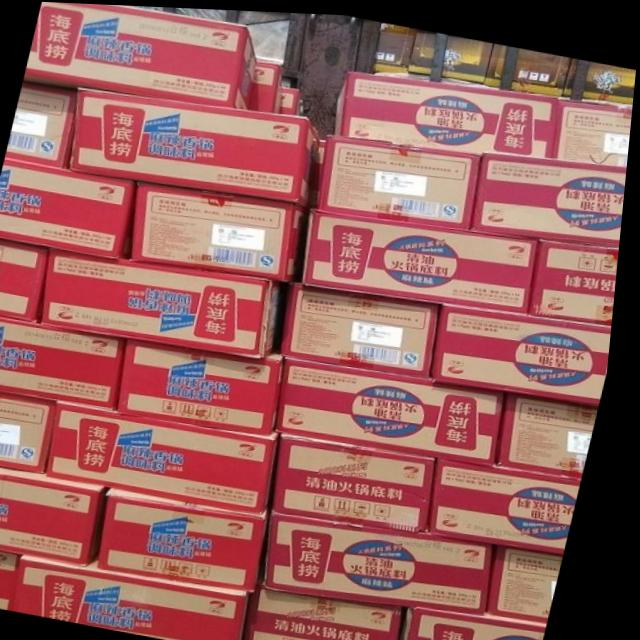box: (75, 90, 327, 206), (59, 397, 291, 513), (50, 250, 293, 355), (27, 1, 261, 109), (310, 207, 540, 311), (290, 356, 512, 461), (274, 510, 503, 610), (23, 555, 260, 640), (340, 70, 561, 154), (439, 298, 618, 401), (137, 182, 313, 278), (111, 488, 272, 589), (279, 429, 439, 530), (127, 337, 295, 432), (292, 281, 447, 376), (437, 452, 589, 548), (322, 135, 482, 225), (476, 149, 629, 241), (0, 159, 142, 256), (0, 315, 131, 408), (0, 465, 114, 564), (259, 587, 414, 640), (506, 391, 604, 472), (536, 235, 624, 321), (8, 81, 81, 171), (499, 539, 572, 615), (413, 602, 557, 640), (0, 391, 65, 471), (561, 95, 634, 161), (0, 238, 56, 320), (0, 551, 33, 608), (256, 55, 284, 112), (279, 84, 309, 113)
